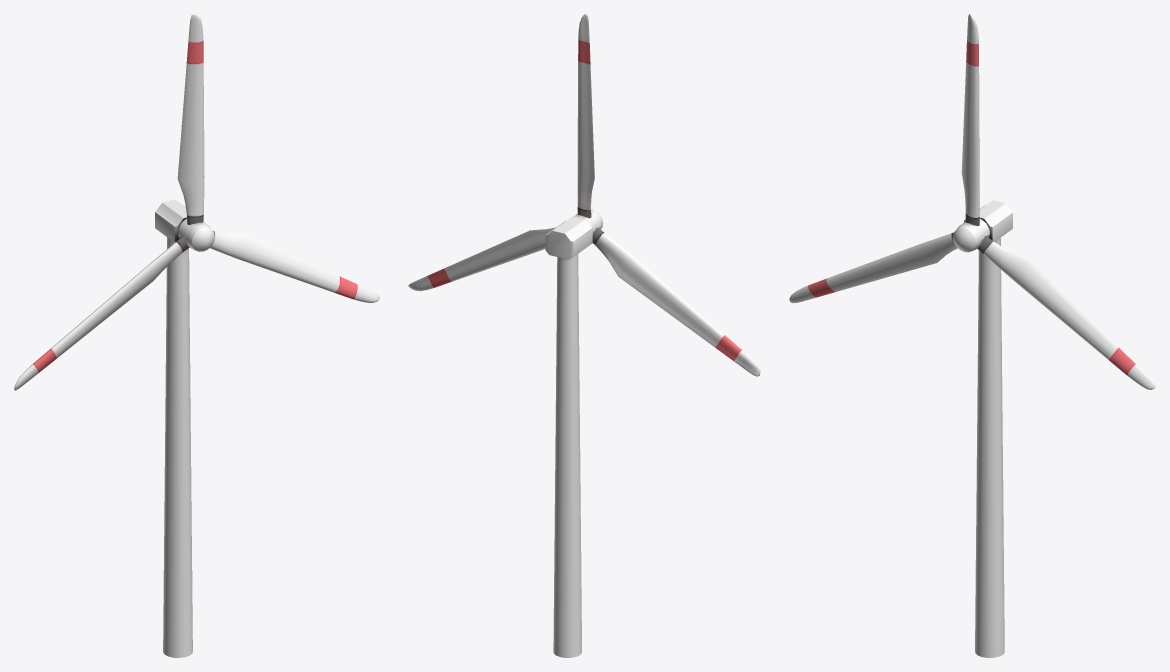
File: Windmill.fbx
The picture shows the model from 3 angles, left to right: view 1: azimuth 30°, elevation 25°; view 2: azimuth 150°, elevation 25°; view 3: azimuth 330°, elevation 25°; orthographic projection. The views are drawn at different scales.
Parts seen in each view (by area): view 1: Windturbine Support, Windturbine Blades; view 2: Windturbine Support, Windturbine Blades; view 3: Windturbine Blades, Windturbine Support.
Boxes of the visible parts, <box> form: Windturbine Support: <box>155,199,203,657</box>; Windturbine Blades: <box>14,14,379,390</box>; Windturbine Support: <box>545,216,592,657</box>; Windturbine Blades: <box>408,14,760,376</box>; Windturbine Blades: <box>789,14,1155,389</box>; Windturbine Support: <box>964,200,1012,657</box>.
Bounding box in the file's own units: 1169 × 1991 × 213.
Materials: 1 (1 with a texture image).
